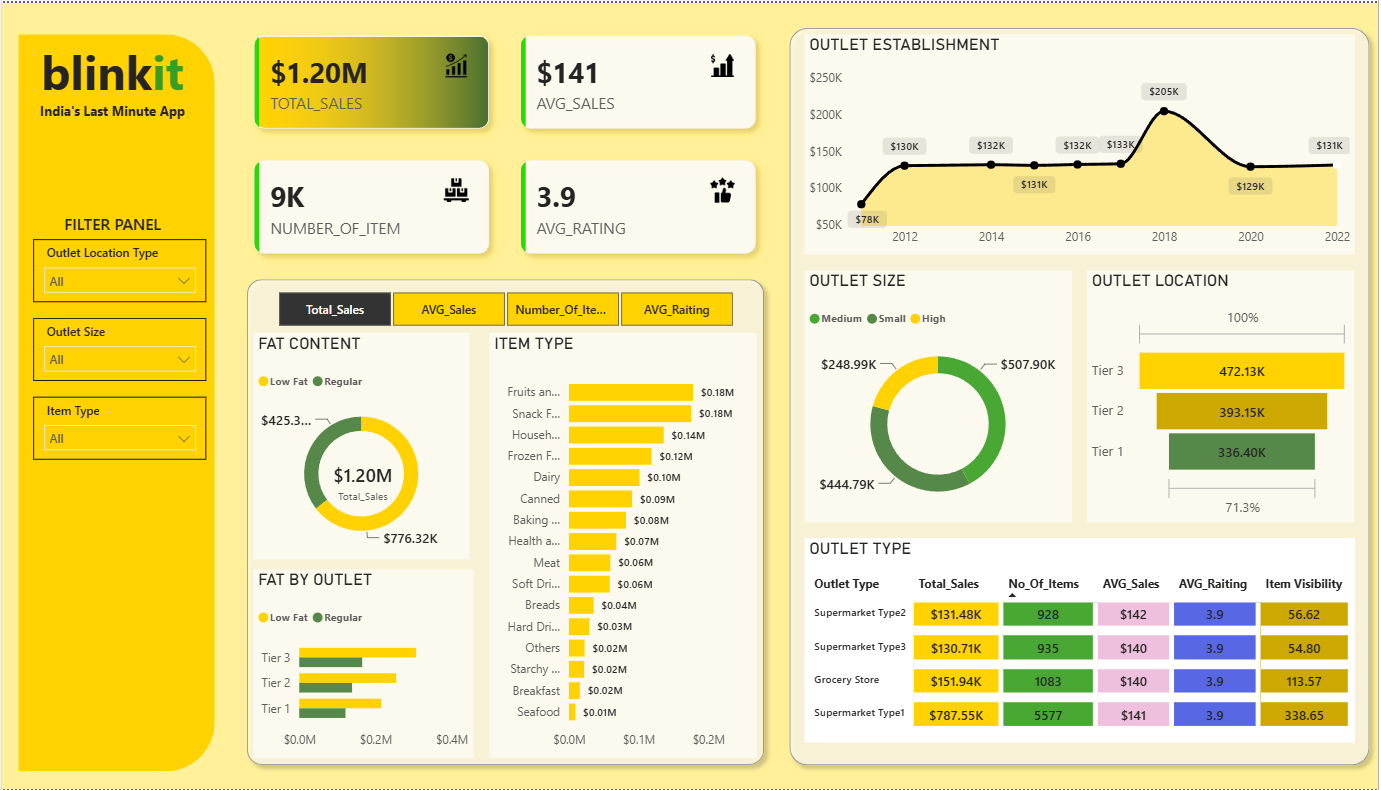

Layout of this report page (visuals, bound fields, positions):
{"tool":"powerbi","page":{"name":"HOME","canvas":[1400,800],"ordinal":0},"visuals":[{"type":"shape","box":[16,32,200,750],"z":0},{"type":"textbox","box":[16,32,192,80],"z":1000},{"type":"textbox","box":[16,96,192,32],"z":2000},{"type":"cardVisual","fields":{"Data":["_Measue.Total_Sales","_Measue.AVG_Sales","_Measue.Number_Of_Items","_Measue.AVG_Raiting"]},"box":[224,0,576,288],"z":3000},{"type":"shape","box":[240,272,544,512],"z":4000},{"type":"donutChart","title":"FAT CONTENT","fields":{"Category":["BlinkIT Grocery Data.Item Fat Content"],"Y":["_Measue.Total_Sales"]},"box":[256,336,220,230],"z":5000},{"type":"slicer","fields":{"Values":["Matrics.Matrics"]},"box":[256,288,512,48],"z":6000},{"type":"cardVisual","fields":{"Data":["_Measue.Total_Sales"]},"box":[288,448,160,80],"z":7000},{"type":"clusteredBarChart","title":"FAT BY OUTLET","fields":{"Category":["BlinkIT Grocery Data.Outlet Location Type"],"Series":["BlinkIT Grocery Data.Item Fat Content"],"Y":["_Measue.Total_Sales"]},"box":[256,576,224,192],"z":8000},{"type":"barChart","title":"ITEM TYPE","fields":{"Category":["BlinkIT Grocery Data.Item Type"],"Y":["_Measue.Total_Sales"]},"box":[496,336,272,432],"z":9000},{"type":"shape","box":[792,16,608,768],"z":10000},{"type":"lineChart","title":"OUTLET ESTABLISHMENT","fields":{"Category":["BlinkIT Grocery Data.Outlet Establishment Year"],"Y":["_Measue.Total_Sales"]},"box":[816,32,560,224],"z":11000},{"type":"donutChart","title":"OUTLET SIZE","fields":{"Category":["BlinkIT Grocery Data.Outlet Size"],"Y":["_Measue.Total_Sales"]},"box":[816,272,272,256],"z":12000},{"type":"funnel","title":"OUTLET LOCATION","fields":{"Category":["BlinkIT Grocery Data.Outlet Location Type"],"Y":["Sum(BlinkIT Grocery Data.Sales)"]},"box":[1104,272,272,256],"z":13000},{"type":"pivotTable","title":"OUTLET TYPE","fields":{"Rows":["BlinkIT Grocery Data.Outlet Type"],"Values":["_Measue.Total_Sales","_Measue.Number_Of_Items","_Measue.AVG_Sales","_Measue.AVG_Raiting","Sum(BlinkIT Grocery Data.Item Visibility)"]},"box":[816,544,560,208],"z":14000},{"type":"slicer","fields":{"Values":["BlinkIT Grocery Data.Outlet Location Type"]},"box":[32,240,176,64],"z":14001},{"type":"slicer","fields":{"Values":["BlinkIT Grocery Data.Outlet Size"]},"box":[32,320,176,64],"z":14002},{"type":"slicer","fields":{"Values":["BlinkIT Grocery Data.Item Type"]},"box":[32,400,176,64],"z":14003},{"type":"textbox","box":[16,208,192,32],"z":14004}]}

Visuals, with their boxes in screenshot pixels (x1, y1, x2, y2), scaled from the page's 1400x800 canvas onto the 1381x790 screenshot:
shape: [x1=16, y1=32, x2=213, y2=772]
textbox: [x1=16, y1=32, x2=205, y2=111]
textbox: [x1=16, y1=95, x2=205, y2=126]
cardVisual - _Measue.Total_Sales x _Measue.AVG_Sales: [x1=221, y1=0, x2=789, y2=284]
shape: [x1=237, y1=269, x2=773, y2=774]
"FAT CONTENT" donutChart: [x1=253, y1=332, x2=470, y2=559]
slicer - Matrics.Matrics: [x1=253, y1=284, x2=758, y2=332]
cardVisual - _Measue.Total_Sales: [x1=284, y1=442, x2=442, y2=521]
"FAT BY OUTLET" clusteredBarChart: [x1=253, y1=569, x2=473, y2=758]
"ITEM TYPE" barChart: [x1=489, y1=332, x2=758, y2=758]
shape: [x1=781, y1=16, x2=1380, y2=774]
"OUTLET ESTABLISHMENT" lineChart: [x1=805, y1=32, x2=1357, y2=253]
"OUTLET SIZE" donutChart: [x1=805, y1=269, x2=1073, y2=521]
"OUTLET LOCATION" funnel: [x1=1089, y1=269, x2=1357, y2=521]
"OUTLET TYPE" pivotTable: [x1=805, y1=537, x2=1357, y2=743]
slicer - BlinkIT Grocery Data.Outlet Location Type: [x1=32, y1=237, x2=205, y2=300]
slicer - BlinkIT Grocery Data.Outlet Size: [x1=32, y1=316, x2=205, y2=379]
slicer - BlinkIT Grocery Data.Item Type: [x1=32, y1=395, x2=205, y2=458]
textbox: [x1=16, y1=205, x2=205, y2=237]
